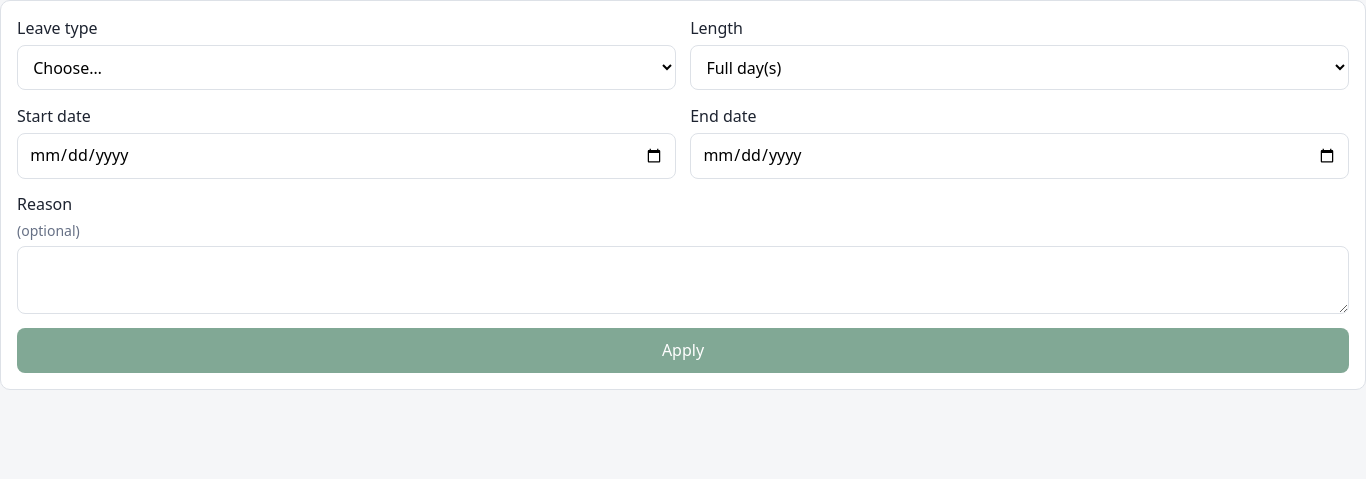
Test case: ApplyLeaveForm › holidays in the preview (US-18) › a half day on a holiday explains and cannot be sent
Select "Afternoon only (½ day)" in the dropdown labelled "Length" at (1020, 68), box x1=690 y1=45 x2=1349 y2=90
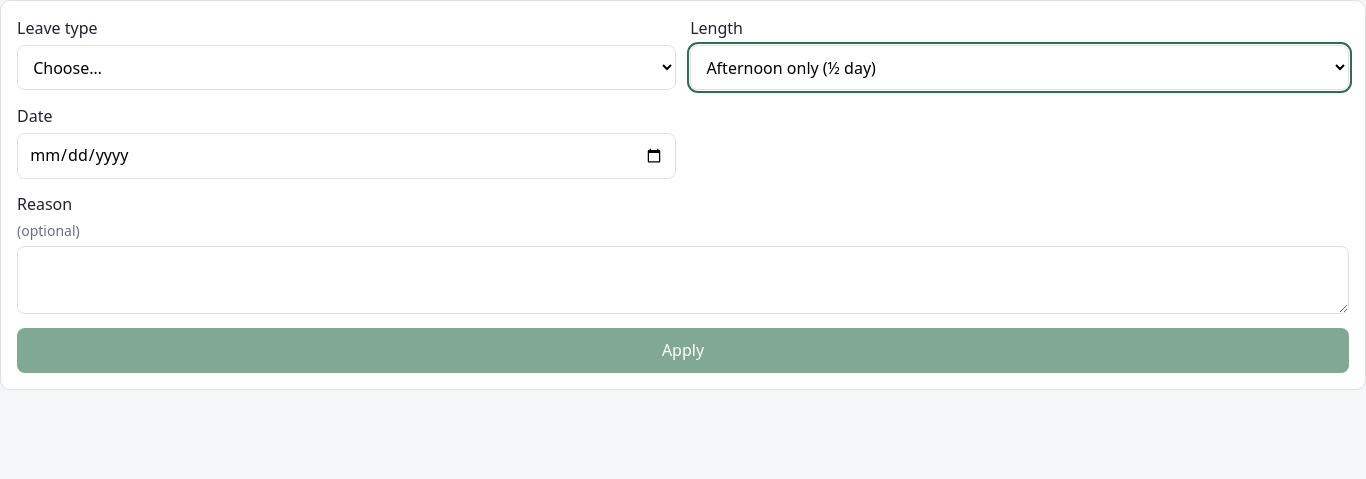
Type "2026-05-01" into the date field labelled "Date" at (346, 156), box x1=17 y1=132 x2=676 y2=179
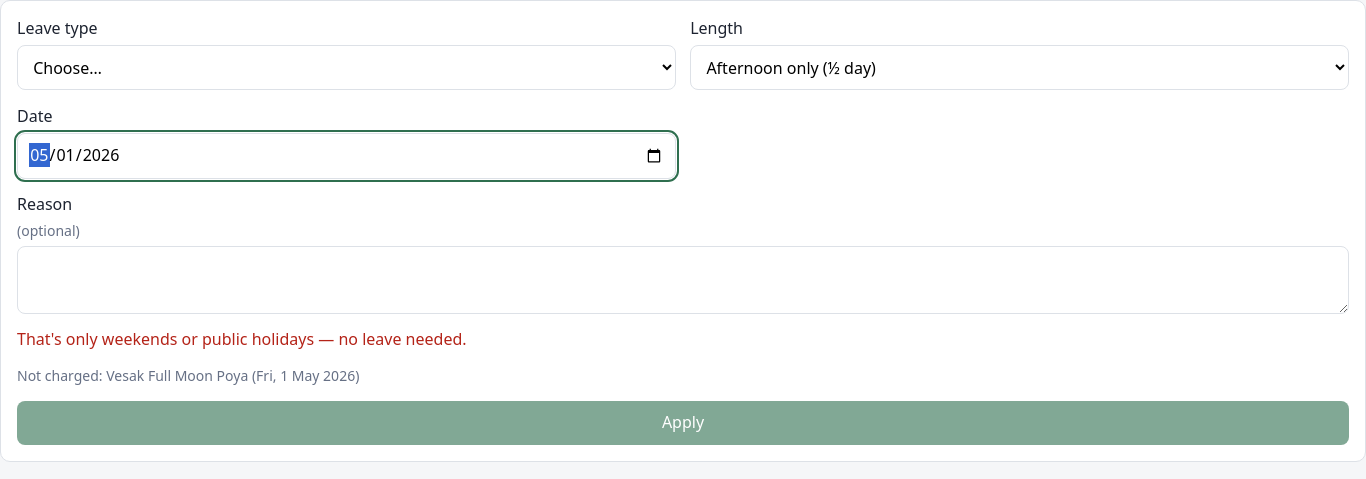
Expected: the button "Apply" is disabled, x1=17 y1=401 x2=1349 y2=445
Result: the text "That's only weekends or public holidays — no leave needed." is shown at x1=17 y1=328 x2=467 y2=350
